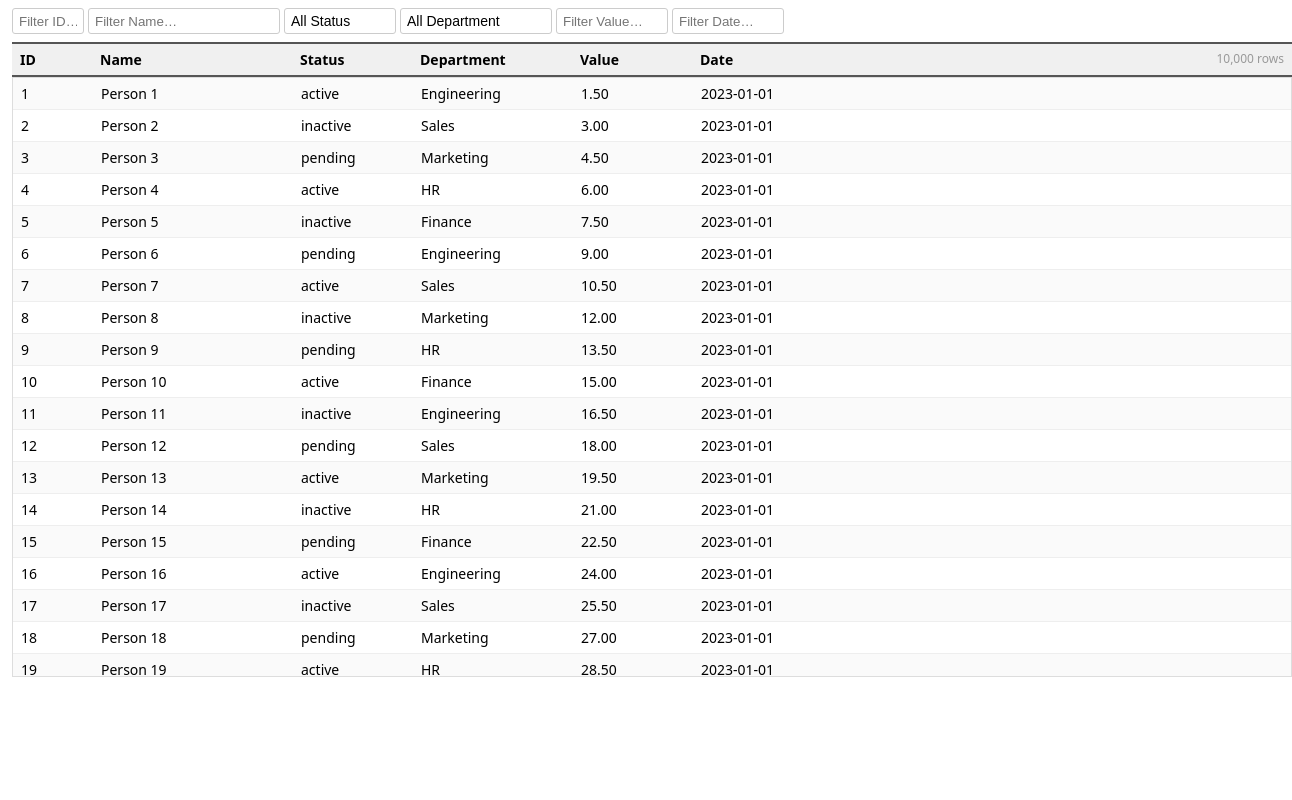
Test: VirtualTable Query Payload › sends filters in query payload after debounce
Expected: the element with test id "row-0" is shown, [13,78,1291,110]
What coordinates should you click on to do the following:
click the button with test id "multiselect-status"
I would click on:
 (340, 21)
Its box is [284,8,396,34].
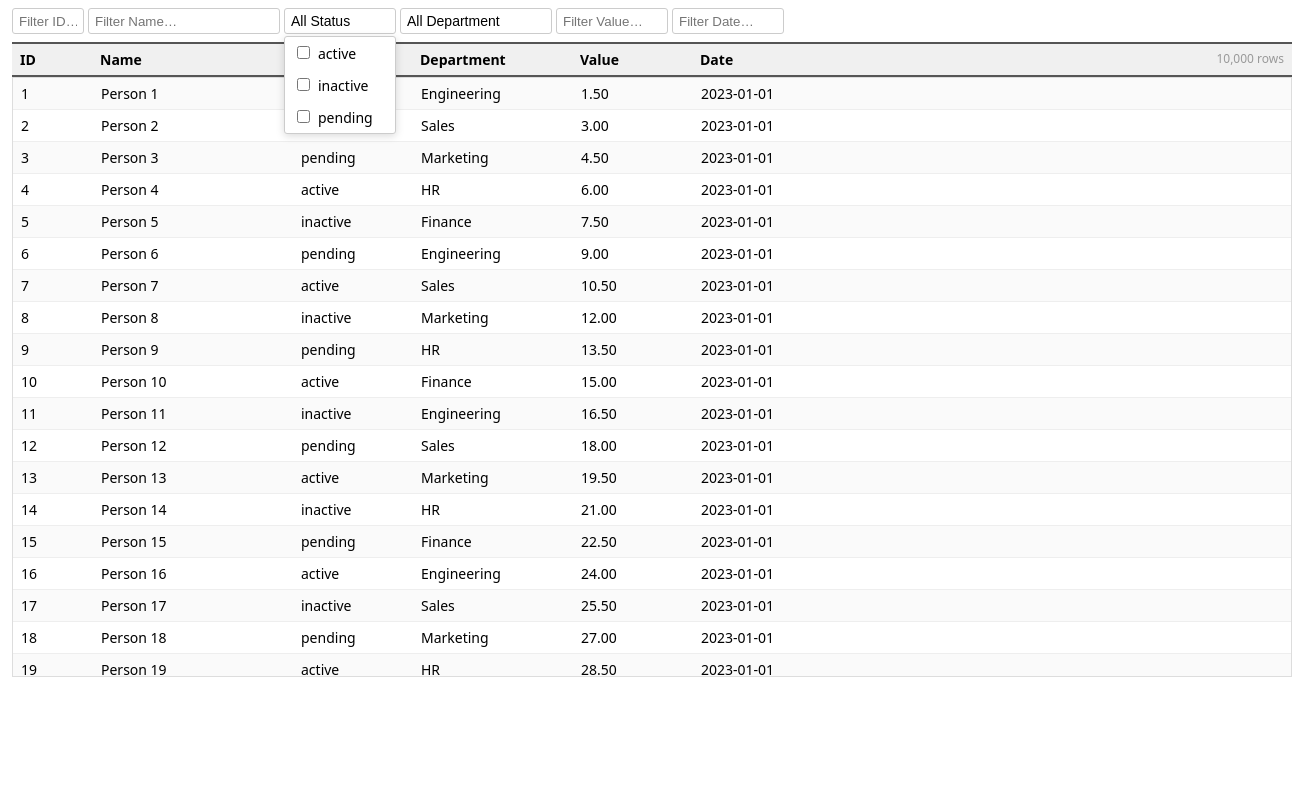
Result: the text "active" is shown at [297,44,356,63]
What coordinates should you click on to do the following:
click the checkbox labelled "active"
I would click on:
 (304, 52)
Its box is [297,46,310,59].
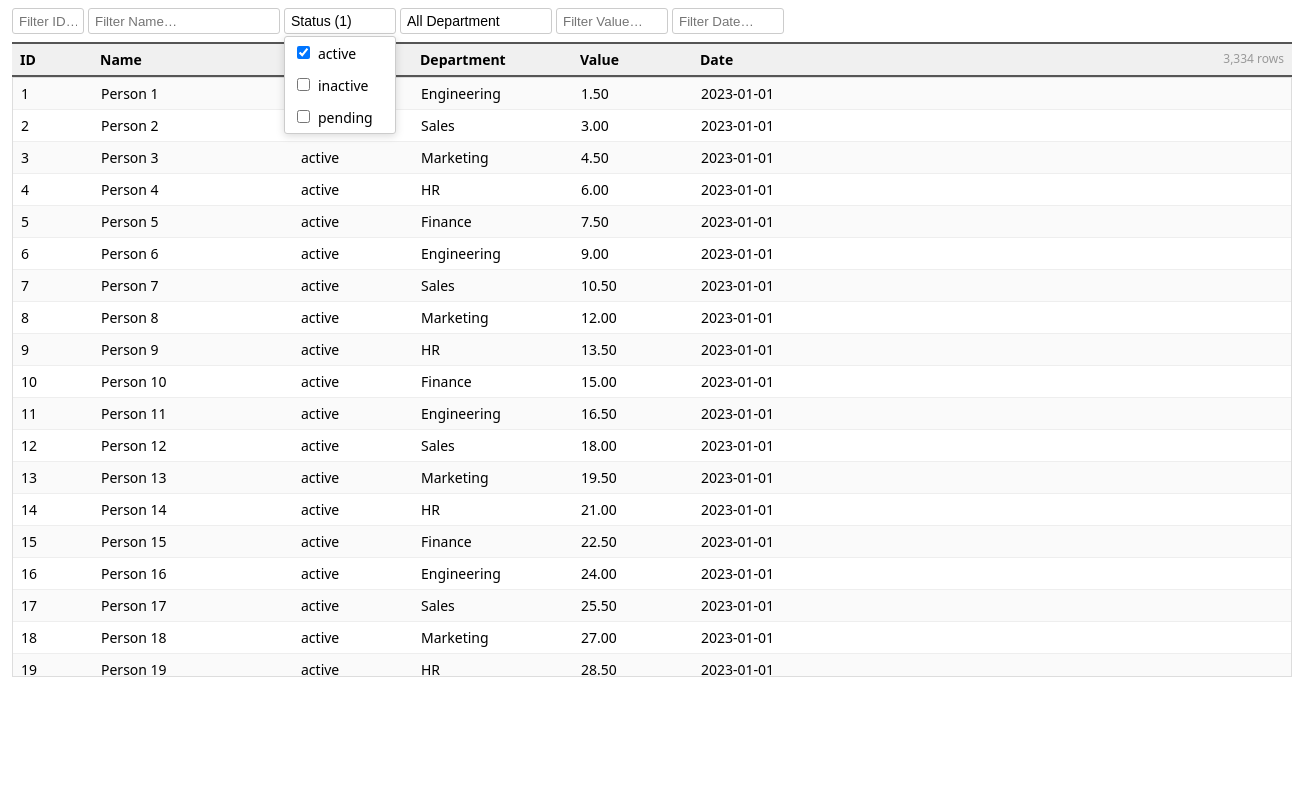
Result: the text "3,334 rows" is shown at [1223,50,1284,67]
